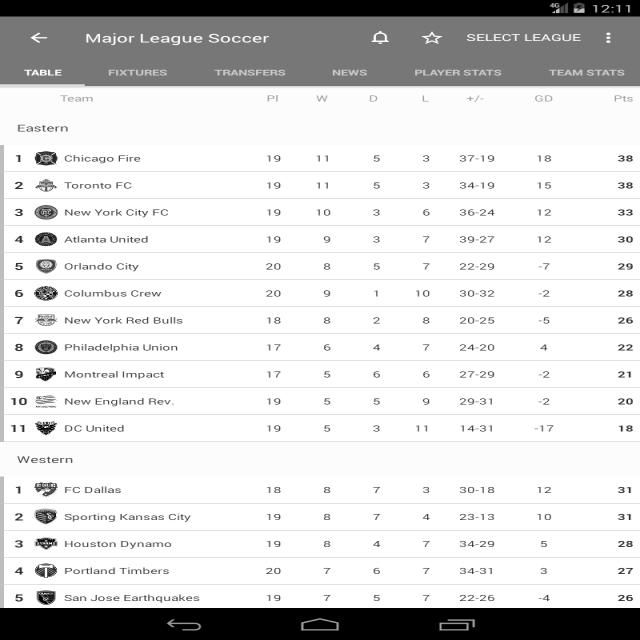ImageButton: (411, 26, 454, 49), (358, 27, 398, 49), (590, 25, 620, 49), (24, 28, 55, 48)
ImageView: (31, 203, 71, 226), (31, 477, 64, 498), (29, 336, 66, 354), (33, 284, 64, 304), (28, 534, 65, 550), (31, 174, 59, 191)
TextView: (79, 28, 279, 51), (64, 559, 175, 579), (62, 392, 178, 410), (407, 63, 509, 83), (60, 149, 151, 167), (62, 256, 153, 272), (544, 66, 632, 82), (208, 66, 295, 81), (452, 230, 501, 252), (106, 67, 172, 81), (22, 64, 79, 80), (260, 148, 296, 168), (454, 508, 504, 522), (456, 393, 498, 409), (254, 562, 295, 578), (606, 335, 637, 353), (368, 538, 394, 550)
